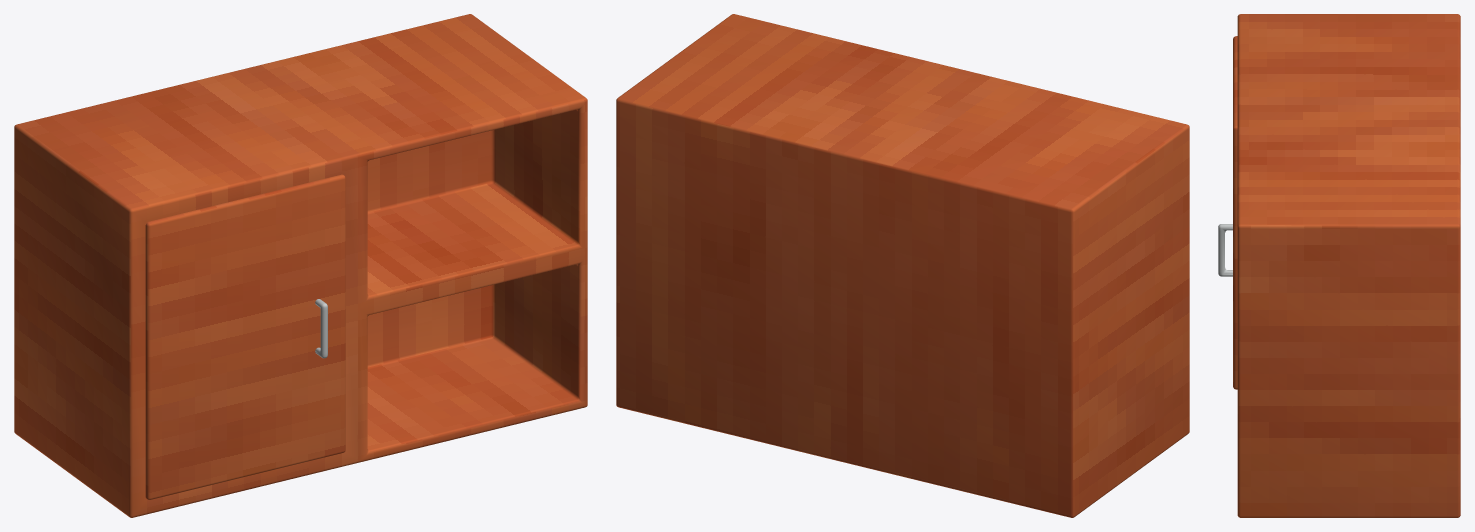
File: Cabinet_2.glb
The picture shows the model from 3 angles, left to right: view 1: azimuth 30°, elevation 25°; view 2: azimuth 150°, elevation 25°; view 3: azimuth 270°, elevation 25°; orthographic projection. The views are drawn at different scales.
Parts seen in each view (by area): view 1: Cabinet_2.001; view 2: Cabinet_2.001; view 3: Cabinet_2.001.
Part boxes in pixels (<box>): Cabinet_2.001: <box>14,14,587,517</box>; Cabinet_2.001: <box>616,14,1189,517</box>; Cabinet_2.001: <box>1218,14,1460,517</box>.
Size of the model in its own units: 1.01 by 0.6539 by 0.4892.
Materials: 1 (1 with a texture image).
